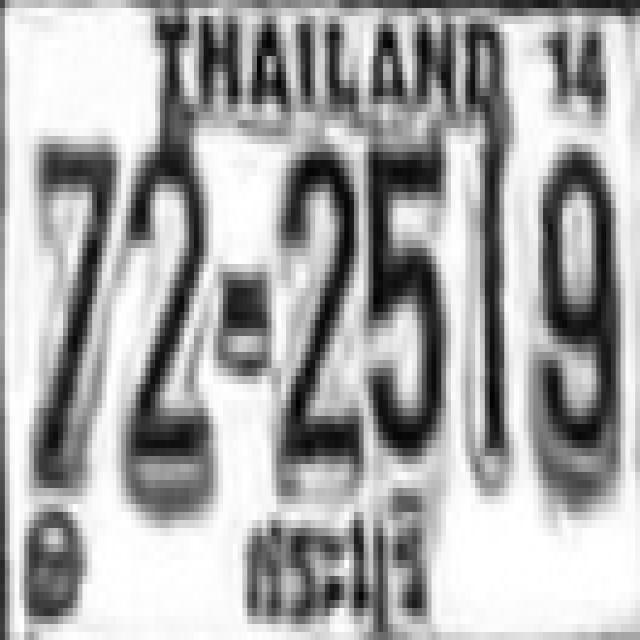2: (119, 136, 206, 456), (276, 144, 354, 464)
5: (364, 136, 441, 448)
7: (27, 128, 114, 472)
9: (524, 140, 616, 500)
SRI: (226, 495, 443, 635)
